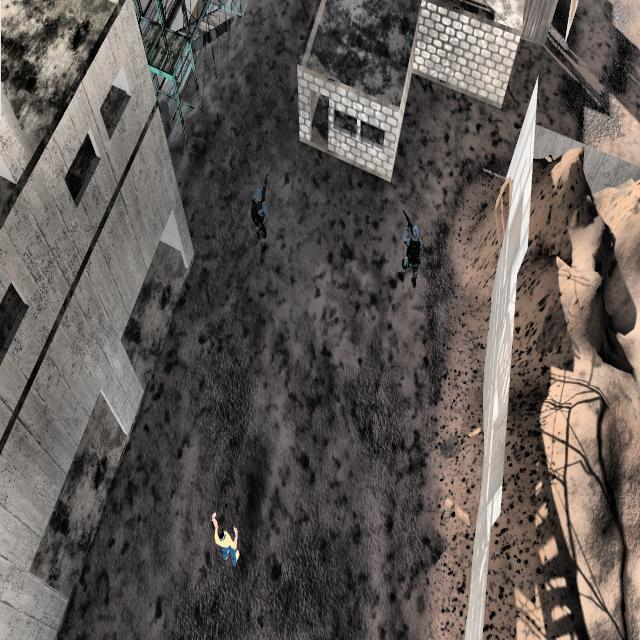bad: (395, 200, 427, 296), (247, 167, 276, 262)
good: (206, 492, 247, 588)
